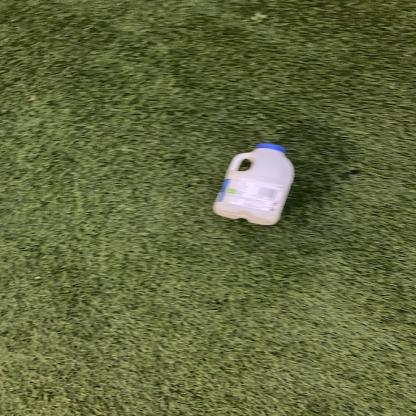trash: (210, 141, 298, 226)
